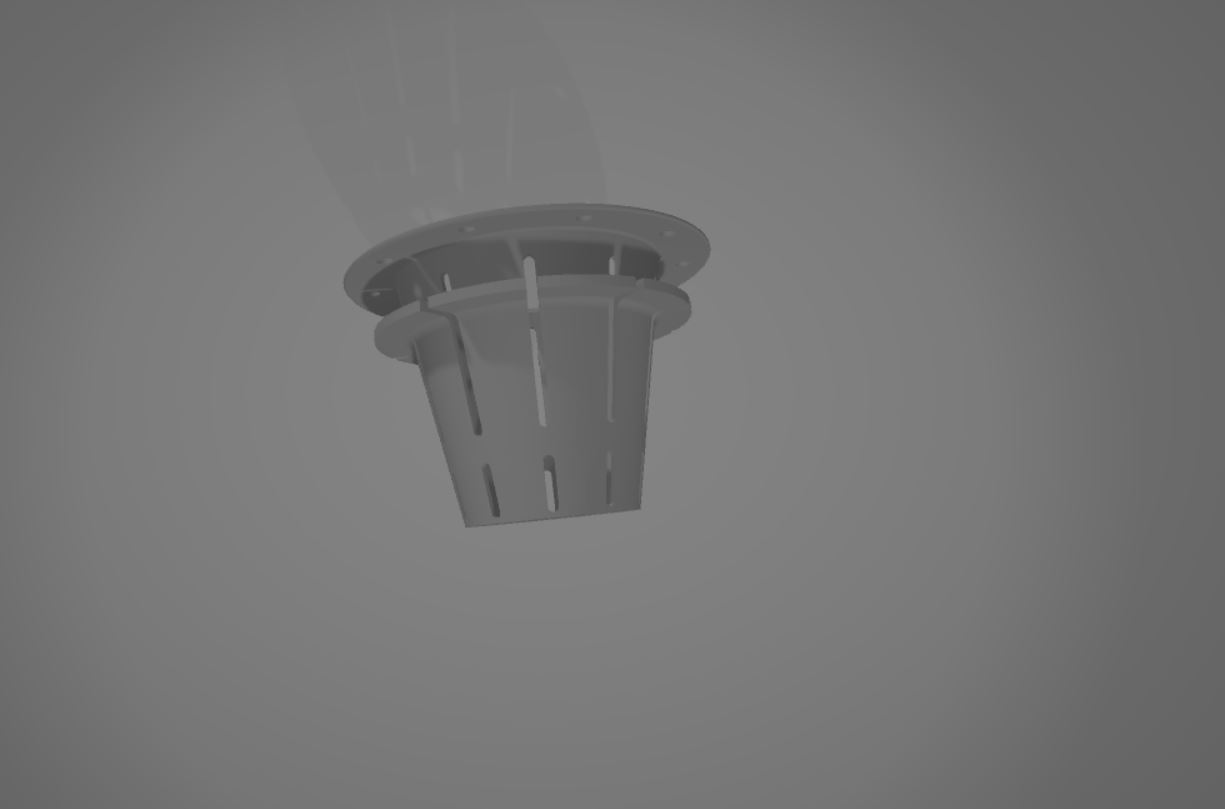basket: (339, 175, 760, 555)
